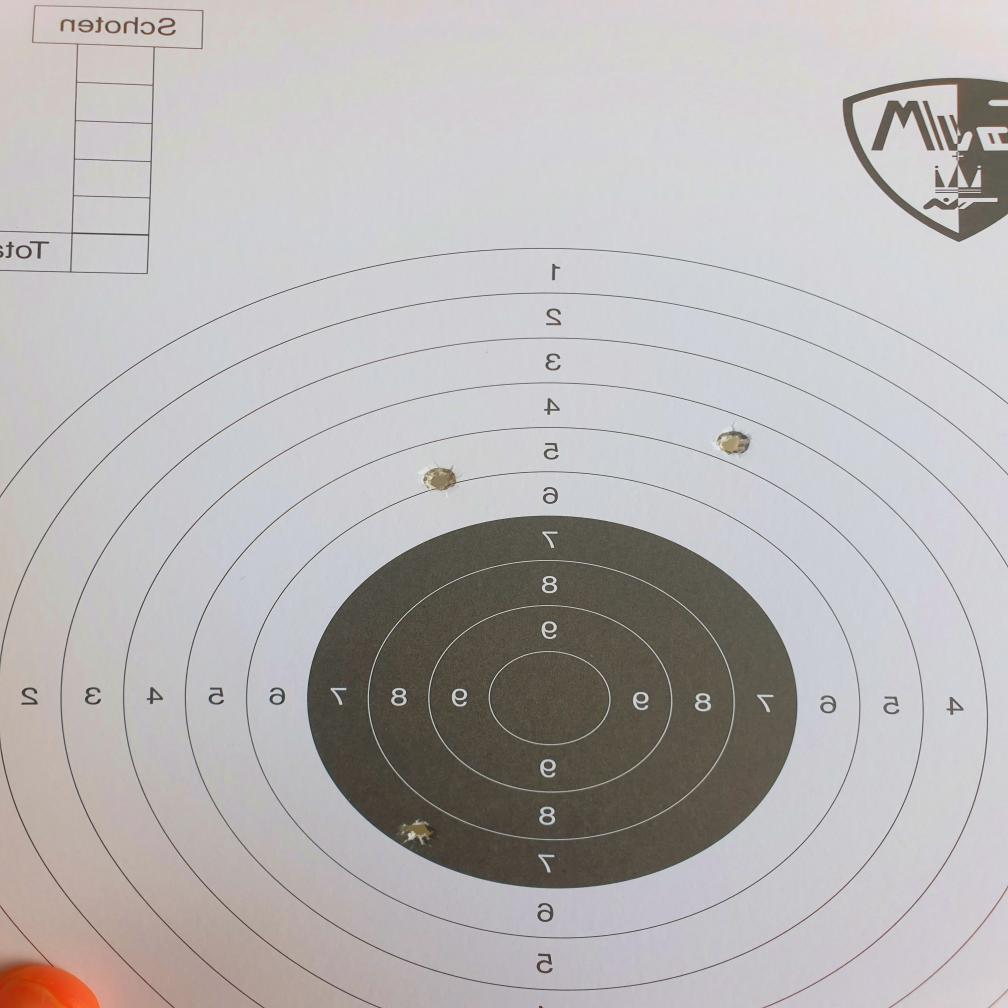4: (712, 424, 753, 460)
6: (417, 461, 466, 496)
7: (397, 817, 439, 849)
Target: (0, 246, 1008, 1008)
black_contour: (307, 516, 791, 888)
